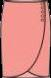Hemline: (3, 71, 50, 77)
Waistline: (4, 0, 47, 2)
